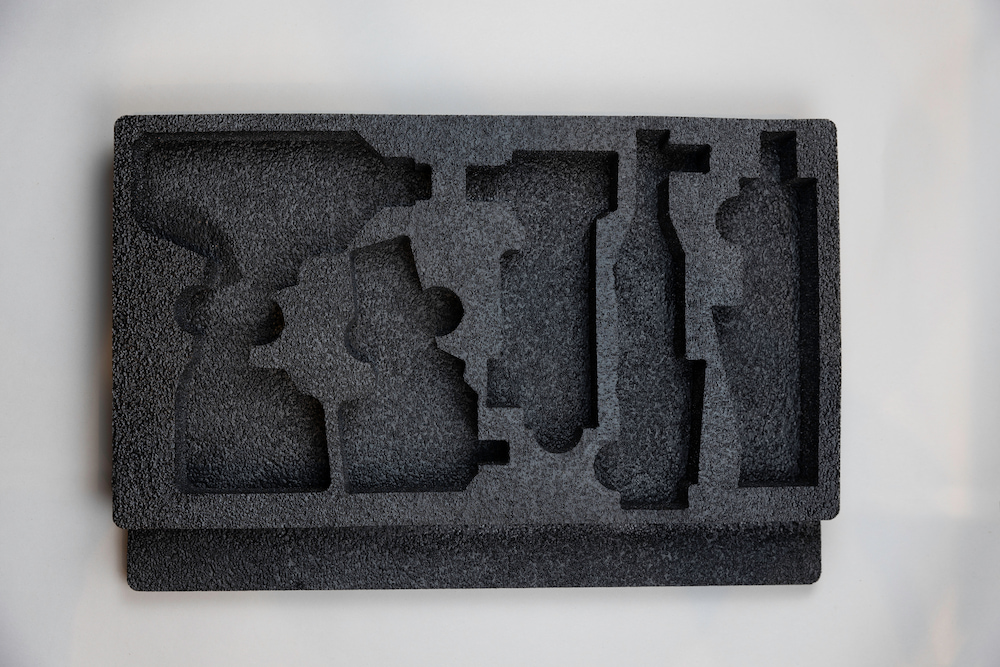Boxes: (111, 114, 840, 591)
